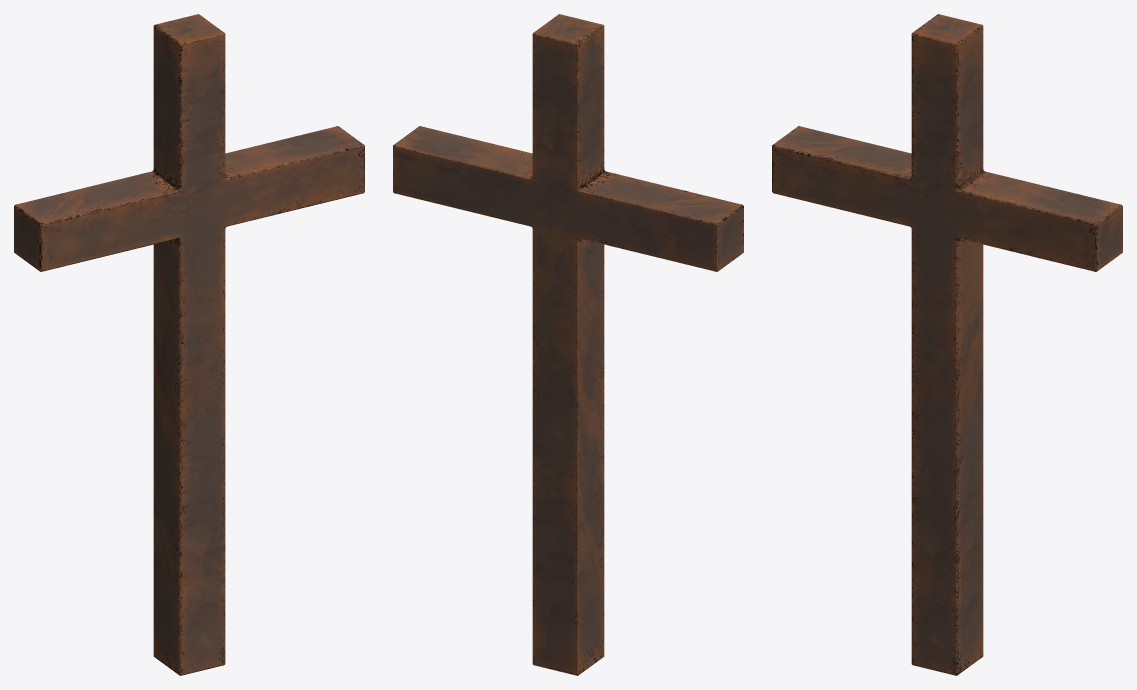
3 renders of one model, left to right at view 1: azimuth 30°, elevation 25°; view 2: azimuth 150°, elevation 25°; view 3: azimuth 330°, elevation 25°, orthographic.
Visible parts, largest first — view 1: Cube; view 2: Cube; view 3: Cube.
Boxes of the visible parts, x1,y1,x2,y2 form: Cube: (14, 14, 364, 675); Cube: (393, 14, 743, 675); Cube: (772, 14, 1122, 675).
Size of the model in its own units: 1.08 by 2 by 0.1538.
Materials: 1 (1 with a texture image).
